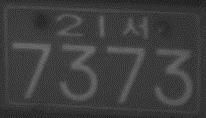1: (90, 14, 111, 38)
2: (54, 13, 84, 38)
3: (153, 46, 194, 107), (58, 43, 99, 101)
7: (105, 45, 146, 105), (11, 41, 51, 98)
서: (123, 14, 148, 41)
